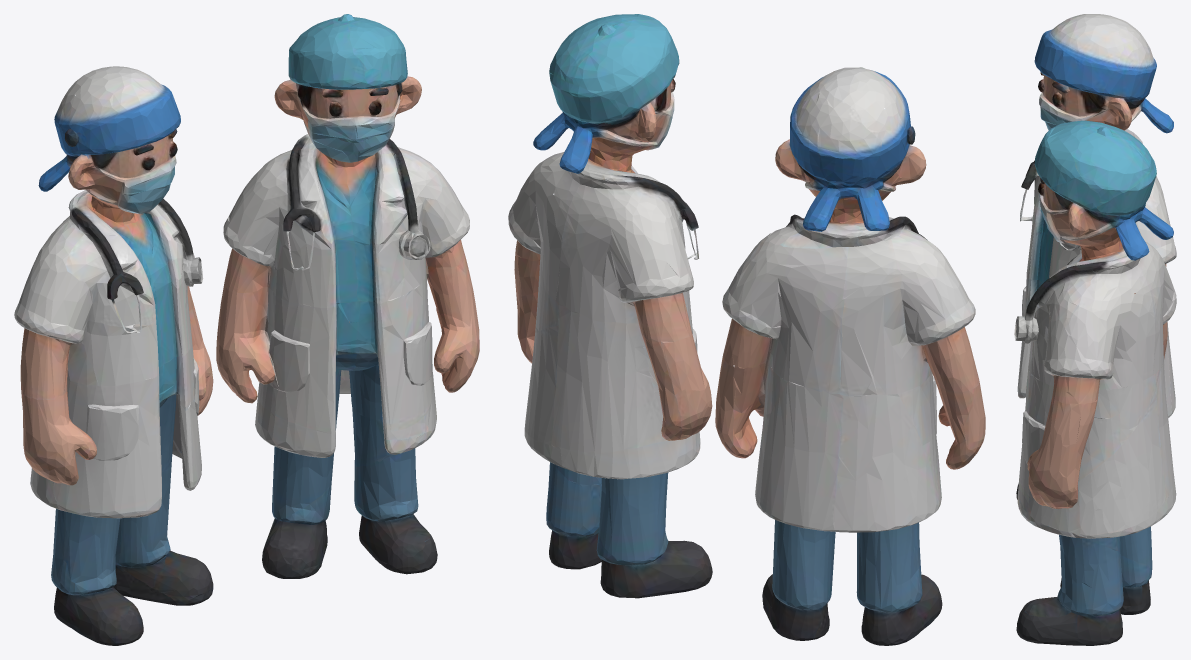
Rendered from doctor.glb.
The picture shows the model from 3 angles, left to right: view 1: azimuth 30°, elevation 25°; view 2: azimuth 150°, elevation 25°; view 3: azimuth 270°, elevation 25°; orthographic projection. The views are drawn at different scales.
Visible parts, largest first — view 1: tripo_node_5a5f223f-794a-4045-8feb-f08151153f1d; view 2: tripo_node_5a5f223f-794a-4045-8feb-f08151153f1d; view 3: tripo_node_5a5f223f-794a-4045-8feb-f08151153f1d.
Part boxes in pixels (x1=…): tripo_node_5a5f223f-794a-4045-8feb-f08151153f1d: x1=14, y1=14, x2=479, y2=645; tripo_node_5a5f223f-794a-4045-8feb-f08151153f1d: x1=508, y1=14, x2=985, y2=645; tripo_node_5a5f223f-794a-4045-8feb-f08151153f1d: x1=1014, y1=14, x2=1176, y2=645.
Size of the model in its own units: 0.8753 by 0.9996 by 0.2955.
1 material, 1 textured.
